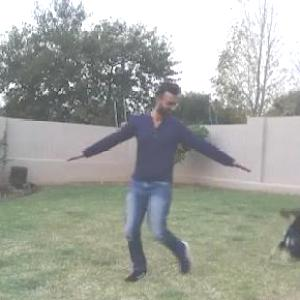land: (88, 84, 258, 272)
